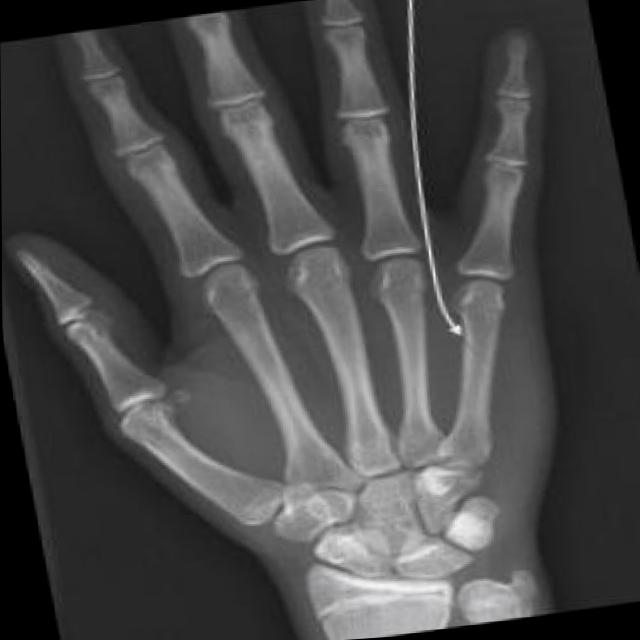Oblique Displaced: (456, 332, 507, 379)
